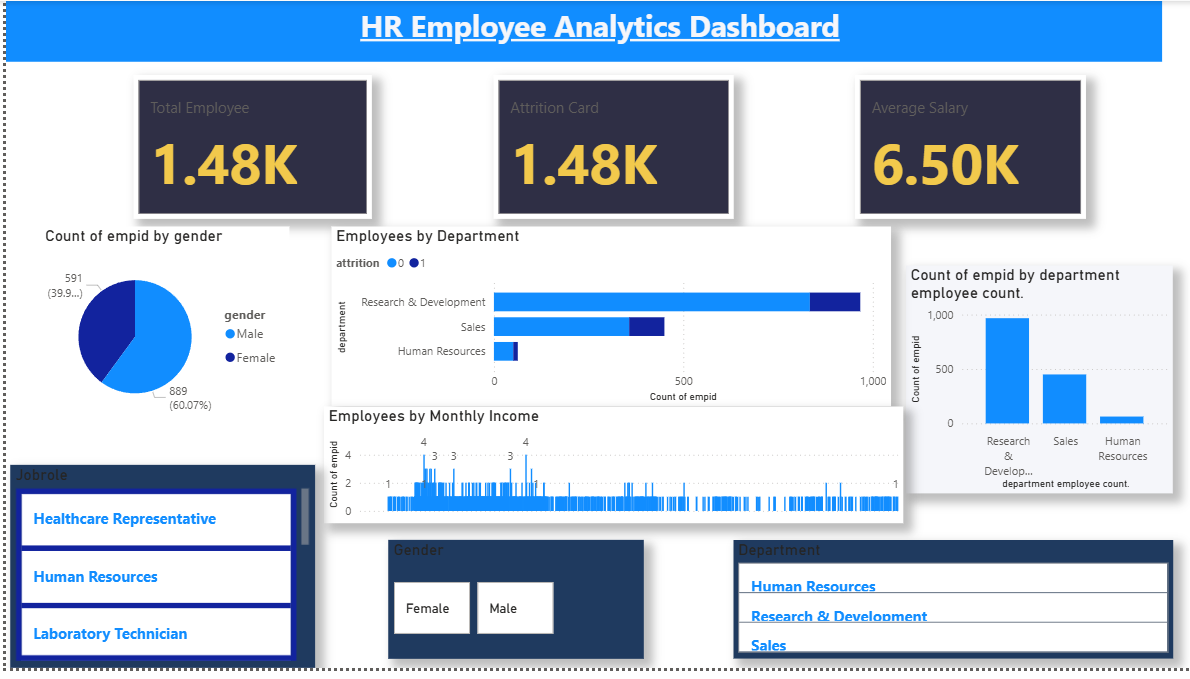

Layout of this report page (visuals, bound fields, positions):
{"tool":"powerbi","page":{"name":"Page 1","canvas":[1280,720],"ordinal":0},"visuals":[{"type":"cardVisual","fields":{"Data":["CountNonNull(cleaned_hr_data.empid)"]},"box":[137.6,81,257.5,155.4],"z":0},{"type":"cardVisual","fields":{"Data":["Avg(cleaned_hr_data.monthlyincome)"]},"box":[916.5,81,249.4,155.4],"z":1000},{"type":"cardVisual","fields":{"Data":["CountNonNull(cleaned_hr_data.attrition)"]},"box":[526.2,81,259.1,155.4],"z":2000},{"type":"clusteredColumnChart","fields":{"Category":["cleaned_hr_data.department"],"Y":["CountNonNull(cleaned_hr_data.empid)"]},"box":[971.5,286.6,288.2,246.1],"z":3000},{"type":"barChart","title":"Employees by Department","fields":{"Category":["cleaned_hr_data.department"],"Series":["cleaned_hr_data.attrition"],"Y":["CountNonNull(cleaned_hr_data.empid)"]},"box":[346.5,244.5,586.2,173.3],"z":4000},{"type":"pieChart","fields":{"Category":["cleaned_hr_data.gender"],"Y":["CountNonNull(cleaned_hr_data.empid)"]},"box":[37.4,244.1,268.5,218],"z":5000},{"type":"columnChart","title":"Employees by Monthly Income","fields":{"Category":["cleaned_hr_data.monthlyincome"],"Y":["CountNonNull(cleaned_hr_data.empid)"]},"box":[346.5,434,586.2,129.5],"z":6000},{"type":"advancedSlicerVisual","fields":{"Values":["cleaned_hr_data.department"]},"box":[785.3,582.9,474.4,127.9],"z":7000},{"type":"advancedSlicerVisual","fields":{"Values":["cleaned_hr_data.gender"]},"box":[434,582.9,275.3,127.9],"z":8000},{"type":"advancedSlicerVisual","fields":{"Values":["cleaned_hr_data.jobrole"]},"box":[4.9,502,328.7,218.6],"z":9000},{"type":"textbox","box":[0,0,1248,66.7],"z":10000}]}

Visuals, with their boxes in screenshot pixels (x1, y1, x2, y2), scaled from the page's 1280x720 canvas onto the 1190x679 screenshot:
cardVisual - CountNonNull(cleaned_hr_data.empid): BBox(128, 76, 367, 223)
cardVisual - Avg(cleaned_hr_data.monthlyincome): BBox(852, 76, 1084, 223)
cardVisual - CountNonNull(cleaned_hr_data.attrition): BBox(489, 76, 730, 223)
clusteredColumnChart - cleaned_hr_data.department x CountNonNull(cleaned_hr_data.empid): BBox(903, 270, 1171, 502)
"Employees by Department" barChart: BBox(322, 231, 867, 394)
pieChart - cleaned_hr_data.gender x CountNonNull(cleaned_hr_data.empid): BBox(35, 230, 284, 436)
"Employees by Monthly Income" columnChart: BBox(322, 409, 867, 531)
advancedSlicerVisual - cleaned_hr_data.department: BBox(730, 550, 1171, 670)
advancedSlicerVisual - cleaned_hr_data.gender: BBox(403, 550, 659, 670)
advancedSlicerVisual - cleaned_hr_data.jobrole: BBox(5, 473, 310, 678)
textbox: BBox(0, 0, 1160, 63)
